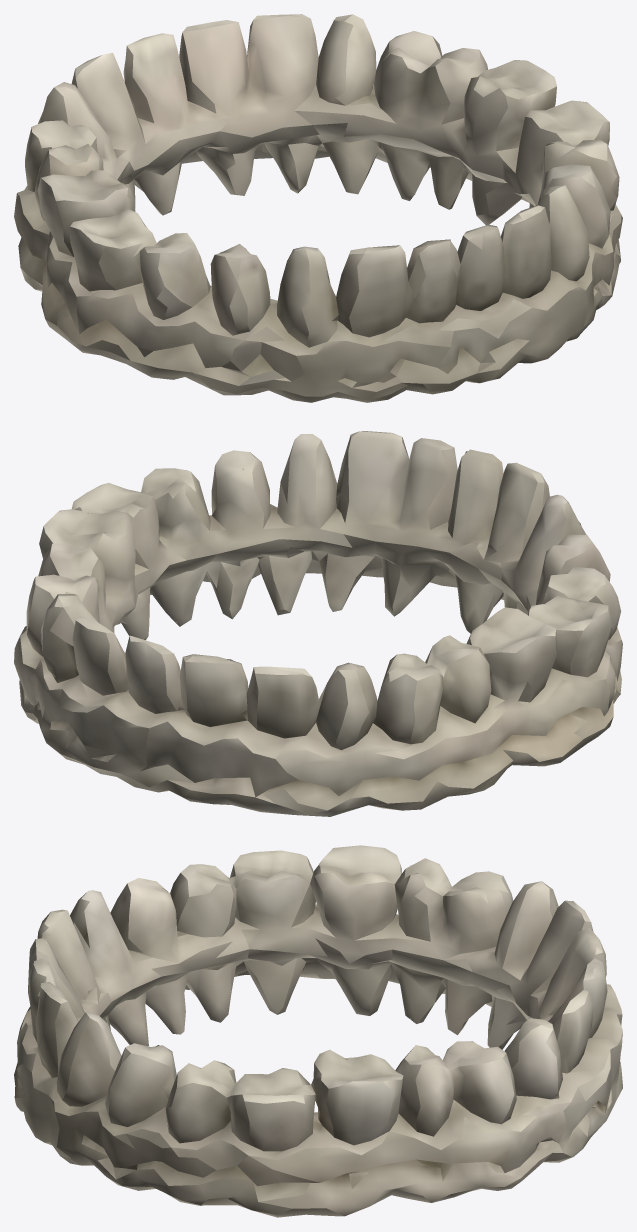
Rendered from teeth.glb.
3 views of the same model, one above another, from view 1: azimuth 30°, elevation 25°; view 2: azimuth 150°, elevation 25°; view 3: azimuth 270°, elevation 25° (orthographic).
Parts seen in each view (by area): view 1: geometry_0; view 2: geometry_0; view 3: geometry_0.
Part boxes in pixels (bbox=[...]): geometry_0: bbox=[14, 14, 622, 402]; geometry_0: bbox=[14, 431, 622, 816]; geometry_0: bbox=[14, 845, 622, 1217].
Bounding box in the file's own units: 0.065 × 0.0191 × 0.0649.
1 material, 1 textured.
